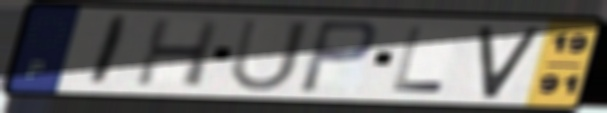H: (131, 16, 225, 89)
I: (83, 13, 135, 89)
L: (388, 25, 449, 95)
P: (294, 18, 381, 97)
U: (225, 16, 312, 94)
V: (475, 24, 545, 101)
